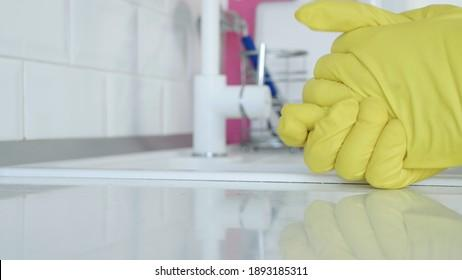gloves: (274, 2, 462, 190)
